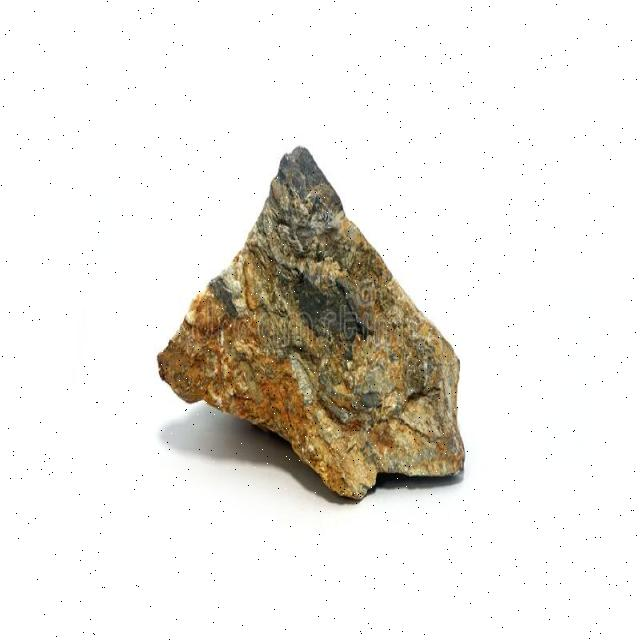Sedimentary: (154, 122, 496, 522)
